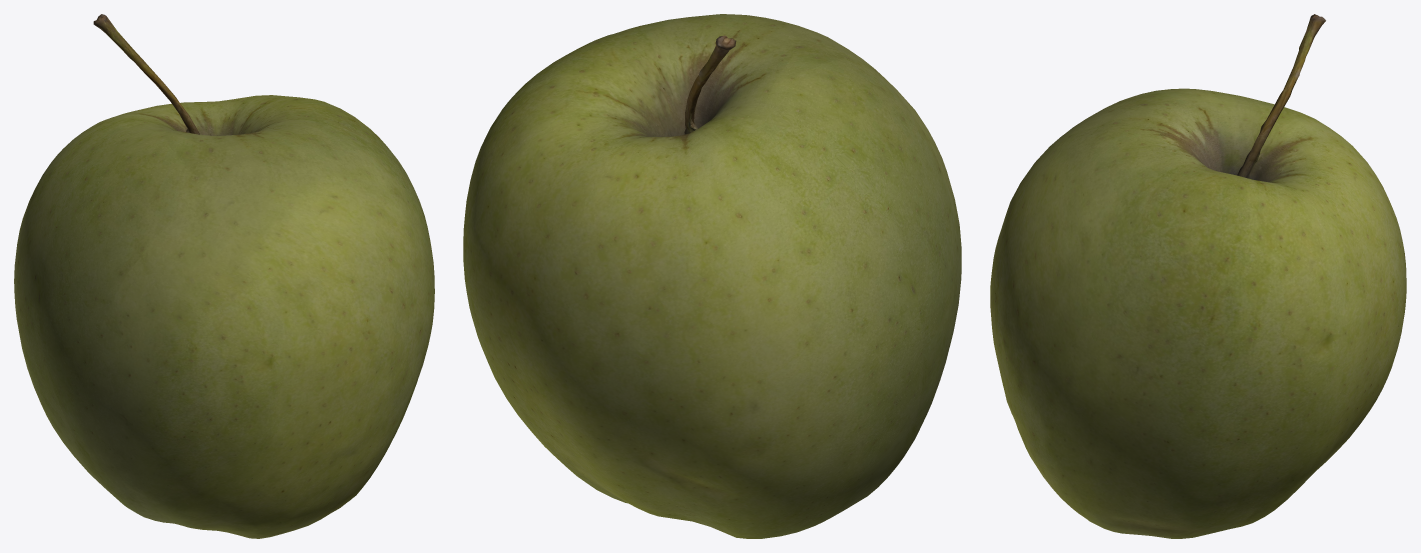
Rendered from apple01.glb.
3 views of the same model, side by side, from view 1: azimuth 30°, elevation 25°; view 2: azimuth 150°, elevation 25°; view 3: azimuth 270°, elevation 25° (orthographic). The views are drawn at different scales.
Parts seen in each view (by area): view 1: node_Apple2_-101264; view 2: node_Apple2_-101264; view 3: node_Apple2_-101264.
Boxes of the visible parts, left/top/right/bottom form: node_Apple2_-101264: left=14, top=14, right=434, bottom=538; node_Apple2_-101264: left=463, top=14, right=961, bottom=538; node_Apple2_-101264: left=990, top=14, right=1406, bottom=538.
Bounding box in the file's own units: 0.0429 × 0.0514 × 0.0421.
Materials: 1 (1 with a texture image).
